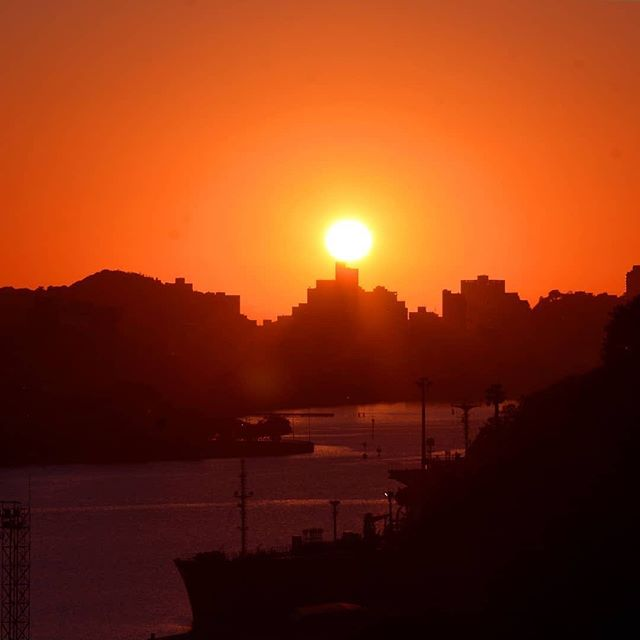river: (1, 403, 483, 640)
sky: (8, 1, 639, 268)
sun: (316, 211, 379, 267)
